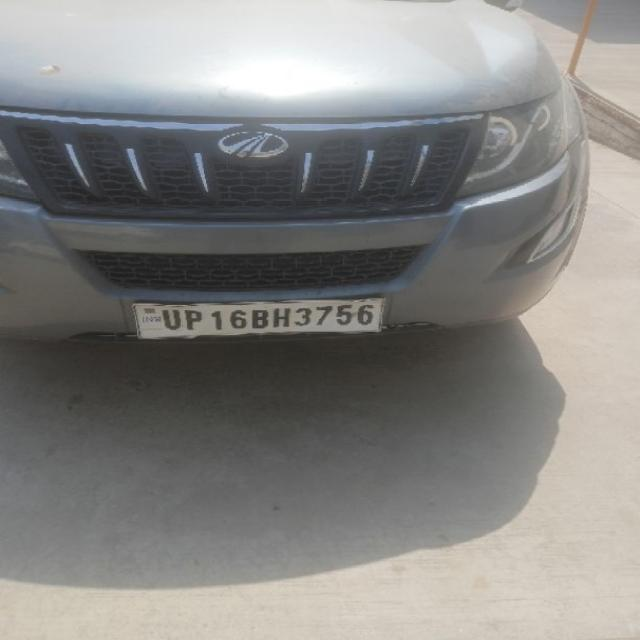license_plate: (130, 296, 386, 340)
